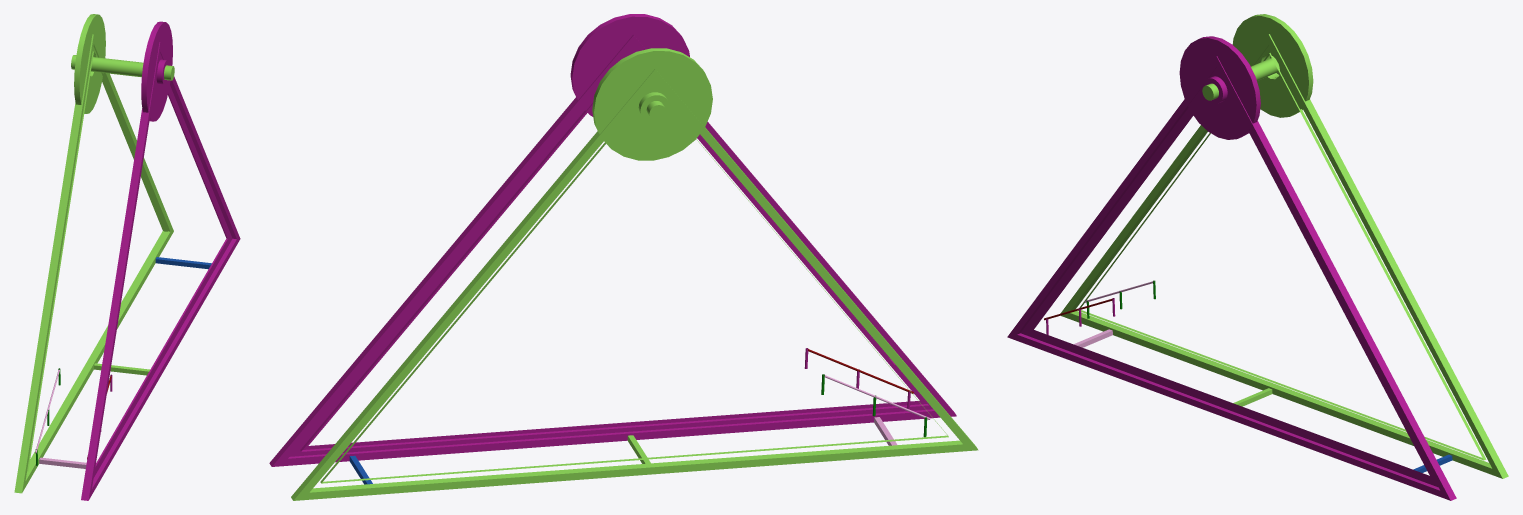
Rendered from stalak.obj.
The picture shows the model from 3 angles, left to right: view 1: azimuth 30°, elevation 25°; view 2: azimuth 150°, elevation 25°; view 3: azimuth 270°, elevation 25°; orthographic projection. The views are drawn at different scales.
Visible parts, largest first — view 1: Group_377, Group_376, Group_380, Group_378; view 2: Group_377, Group_376; view 3: Group_376, Group_377.
Part boxes in pixels (bbox=[...]): Group_377: bbox=[14, 14, 174, 493]; Group_376: bbox=[81, 21, 240, 500]; Group_380: bbox=[155, 257, 211, 269]; Group_378: bbox=[39, 457, 86, 468]; Group_377: bbox=[291, 48, 978, 500]; Group_376: bbox=[269, 14, 956, 466]; Group_376: bbox=[1007, 36, 1456, 500]; Group_377: bbox=[1060, 14, 1508, 478].
Bounding box in the file's own units: 17692 × 14993 × 17692.
Materials: 6 (6 with a texture image).
